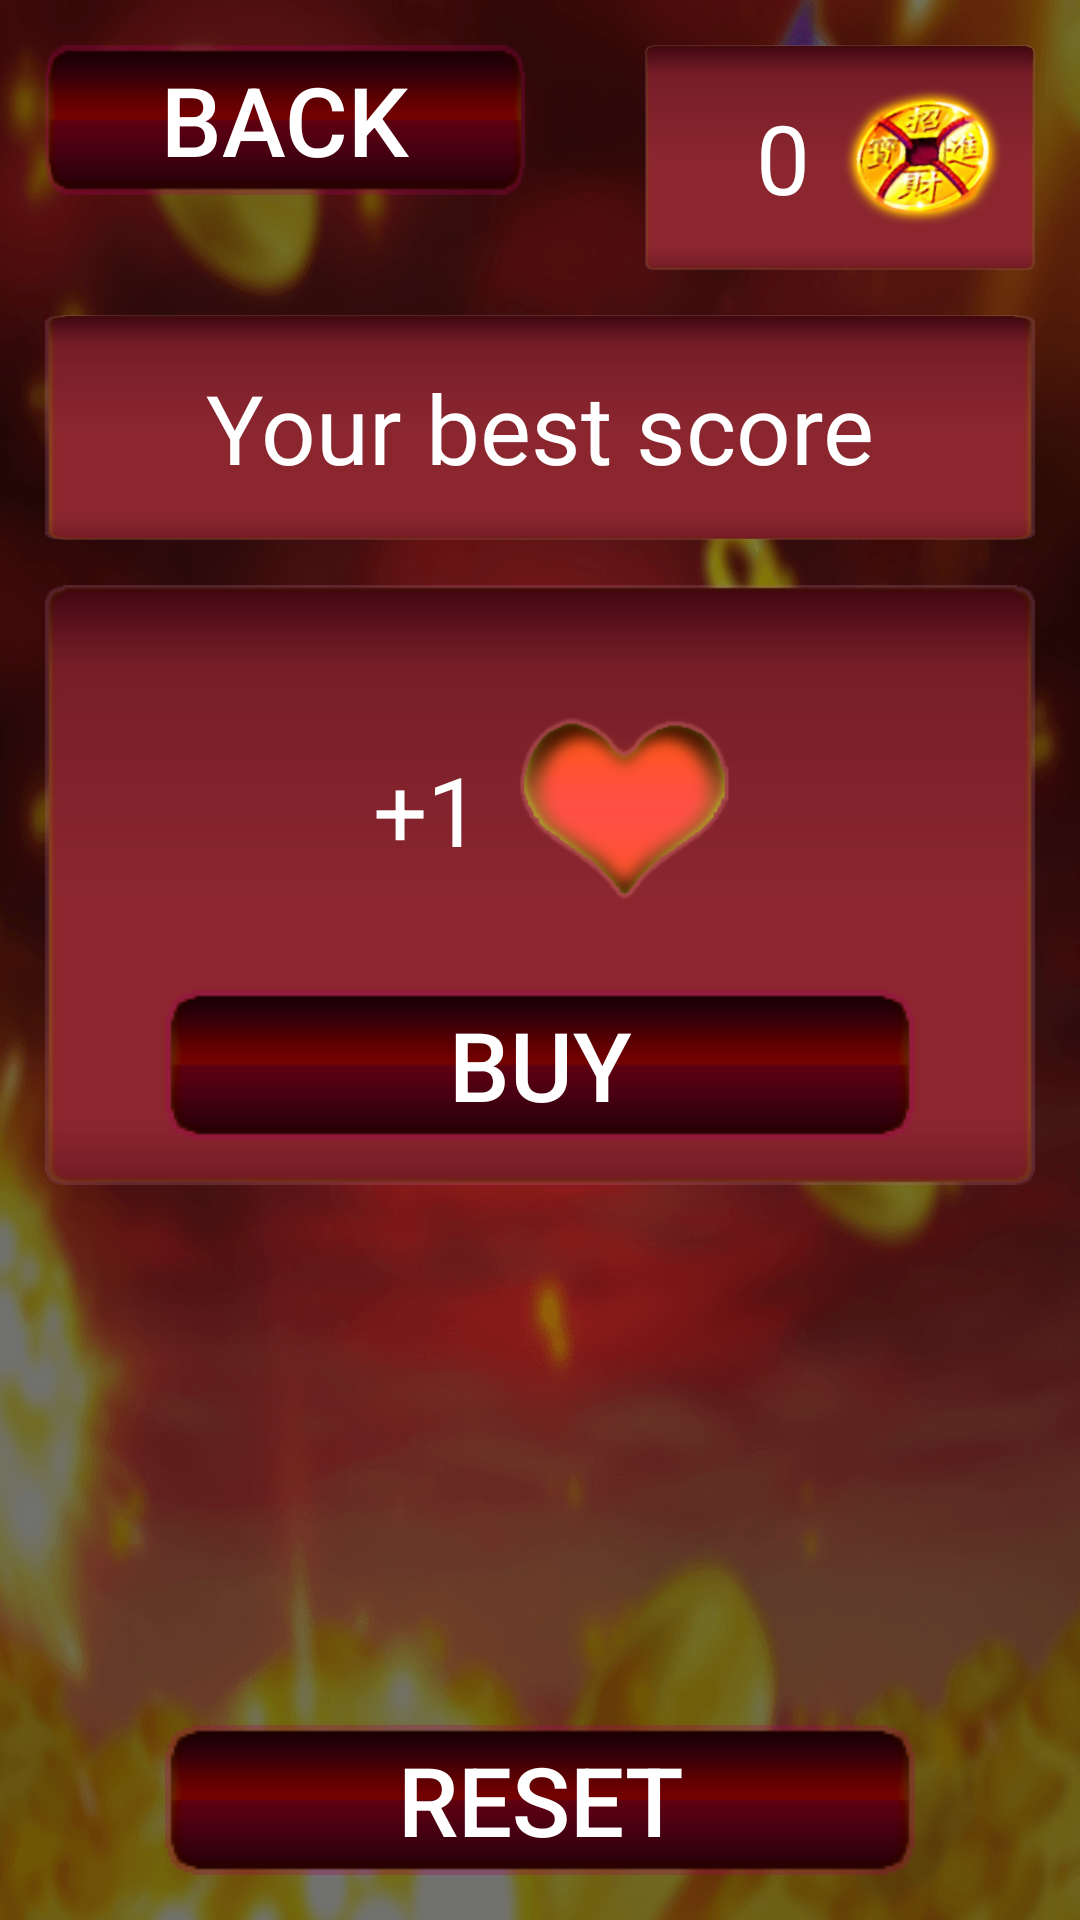

Where icons sit on this 1080px×1920px app screen, as (x1, y1, x2, y2):
life: (521, 721, 728, 897)
